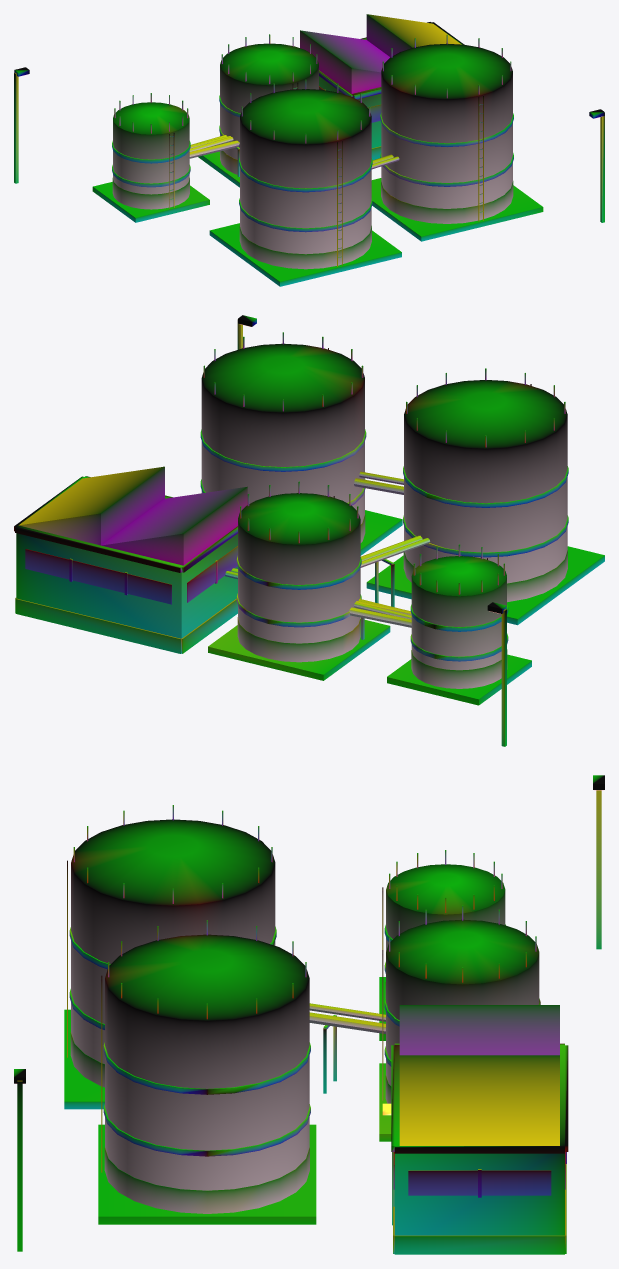
File: Ind_Tanks_V8.fbx
3 renders of one model, top to bottom at view 1: azimuth 30°, elevation 25°; view 2: azimuth 150°, elevation 25°; view 3: azimuth 270°, elevation 25°, orthographic. The views are drawn at different scales.
Visible parts, largest first — view 1: Ind_Tanks_V8_LOD0; view 2: Ind_Tanks_V8_LOD0; view 3: Ind_Tanks_V8_LOD0.
Part boxes in pixels (x1,y1,x2,y2): Ind_Tanks_V8_LOD0: (14,14,604,286); Ind_Tanks_V8_LOD0: (14,315,604,746); Ind_Tanks_V8_LOD0: (14,775,604,1254).
Size of what is drawn, in the model's own units: 42.85 by 14.08 by 34.7.
